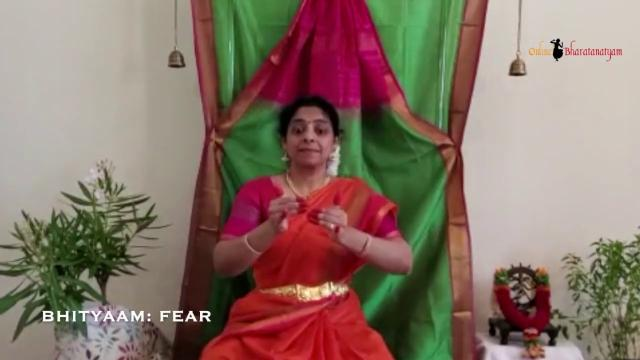mrighasheesh: (250, 167, 312, 245), (306, 178, 356, 252)
